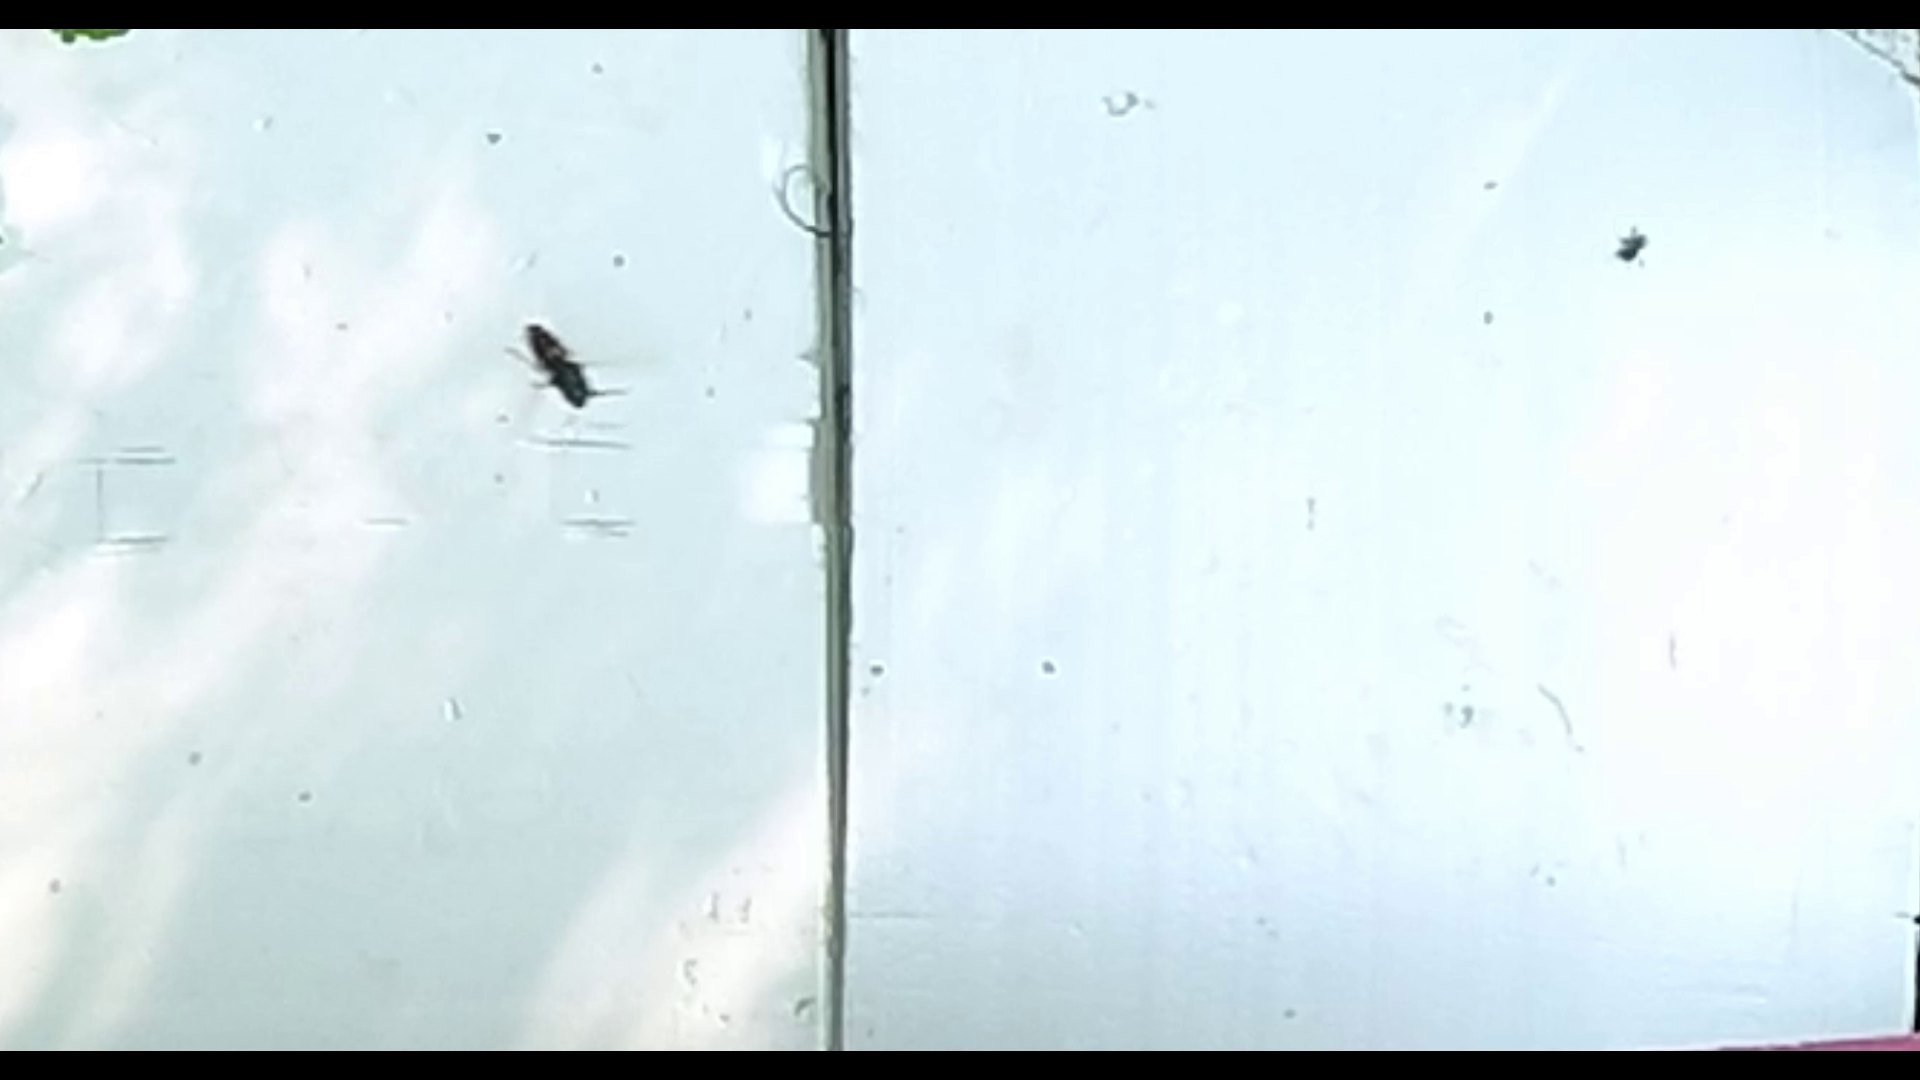Asian_hornets: (479, 290, 644, 440)
